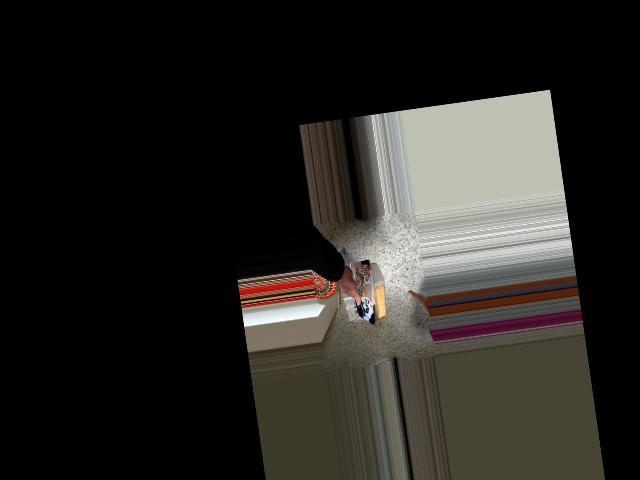cheese: (332, 247, 406, 331)
